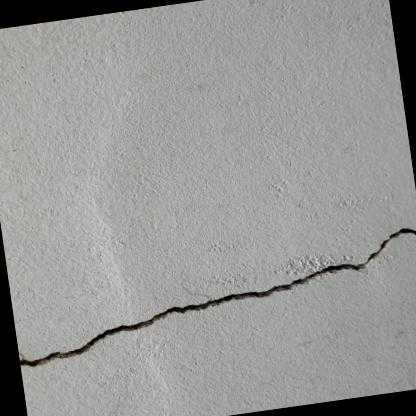crack: (18, 224, 416, 368)
